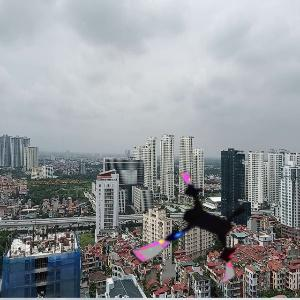drone: (128, 166, 260, 298)
